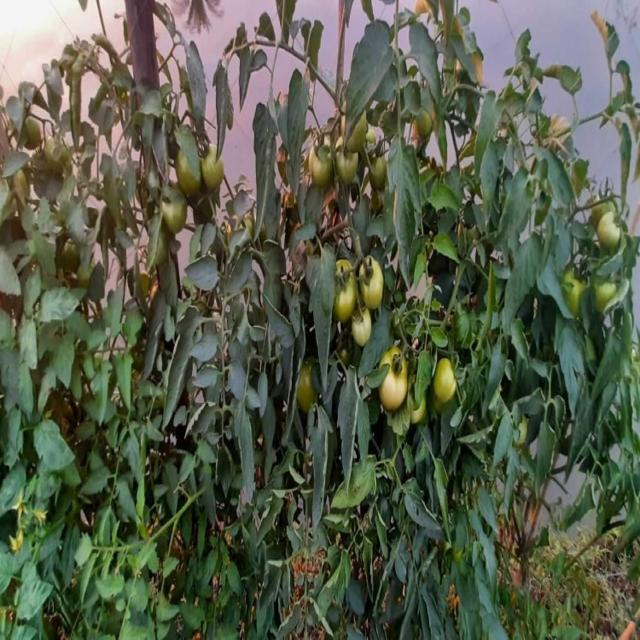tomato: (360, 257, 385, 311), (386, 350, 407, 407), (203, 145, 229, 191), (160, 202, 193, 237), (310, 145, 336, 188), (600, 209, 625, 251), (337, 265, 356, 318), (349, 309, 376, 343), (176, 161, 200, 195), (590, 280, 622, 304), (439, 358, 458, 398), (297, 361, 314, 405), (567, 270, 582, 319), (368, 156, 389, 191), (25, 118, 43, 156), (415, 108, 434, 138), (344, 157, 362, 187)
